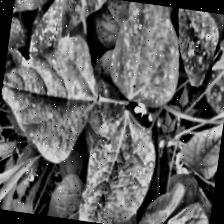Bean Rust: (0, 27, 105, 168), (79, 105, 161, 224), (105, 0, 187, 109), (168, 8, 222, 90), (27, 2, 77, 62), (12, 0, 63, 23)
